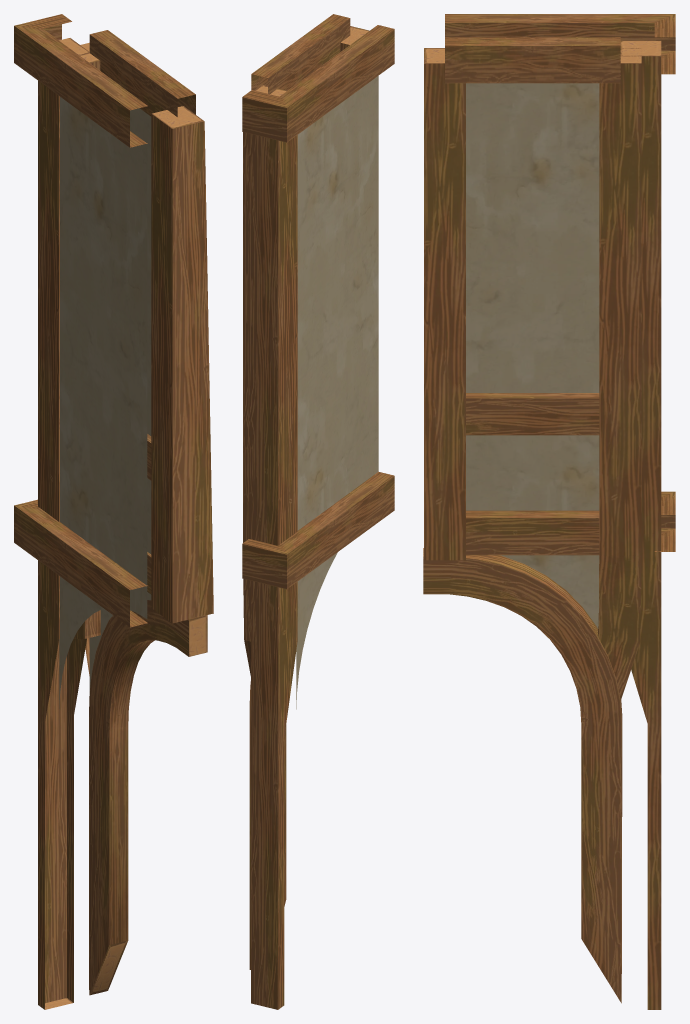
The model's file is Overhang_Side_Plaster_Short_R.glb.
3 views of the same model, side by side, from view 1: azimuth 30°, elevation 25°; view 2: azimuth 150°, elevation 25°; view 3: azimuth 270°, elevation 25° (orthographic). The views are drawn at different scales.
Visible parts, largest first — view 1: Overhang_Side_Plaster_Short_R; view 2: Overhang_Side_Plaster_Short_R; view 3: Overhang_Side_Plaster_Short_R.
Part boxes in pixels (left/top/right/bottom): Overhang_Side_Plaster_Short_R: left=14, top=14, right=213, bottom=1009; Overhang_Side_Plaster_Short_R: left=242, top=14, right=394, bottom=1009; Overhang_Side_Plaster_Short_R: left=423, top=14, right=675, bottom=1009.
Bounding box in the file's own units: 0.4794 × 6.12 × 1.44.
Materials: 2 (2 with a texture image).
